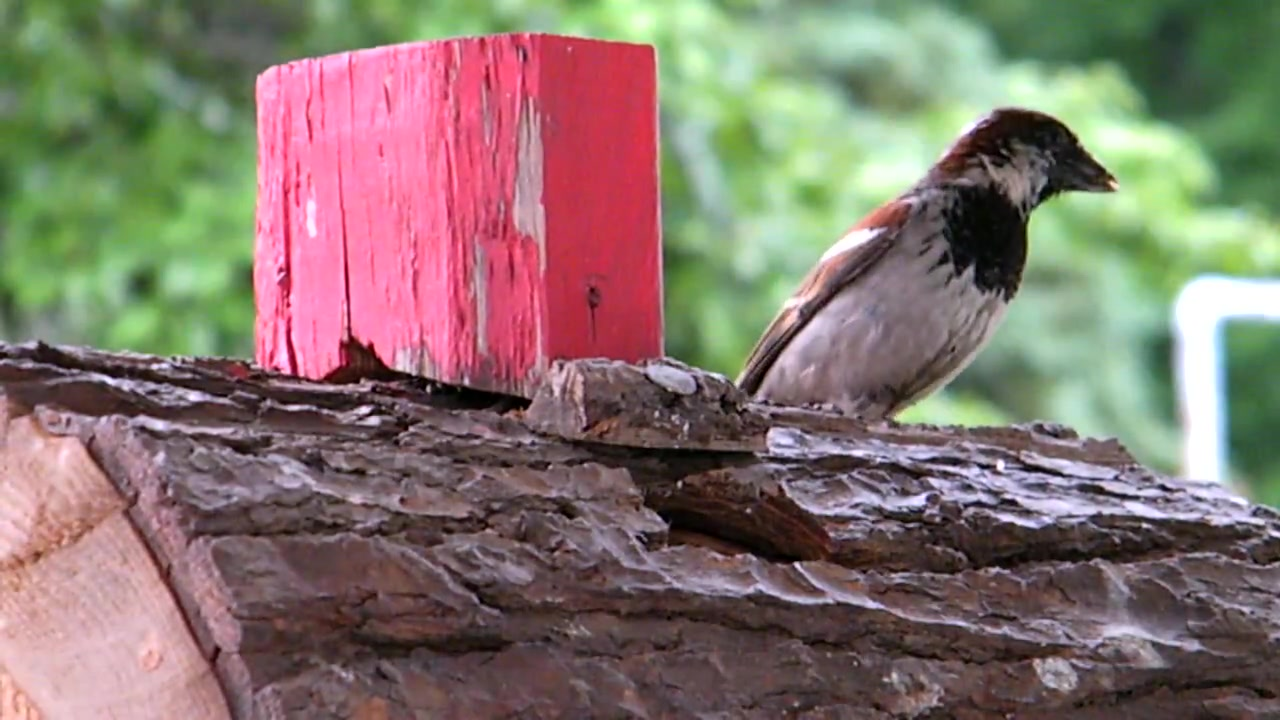bird: (737, 107, 1119, 418)
